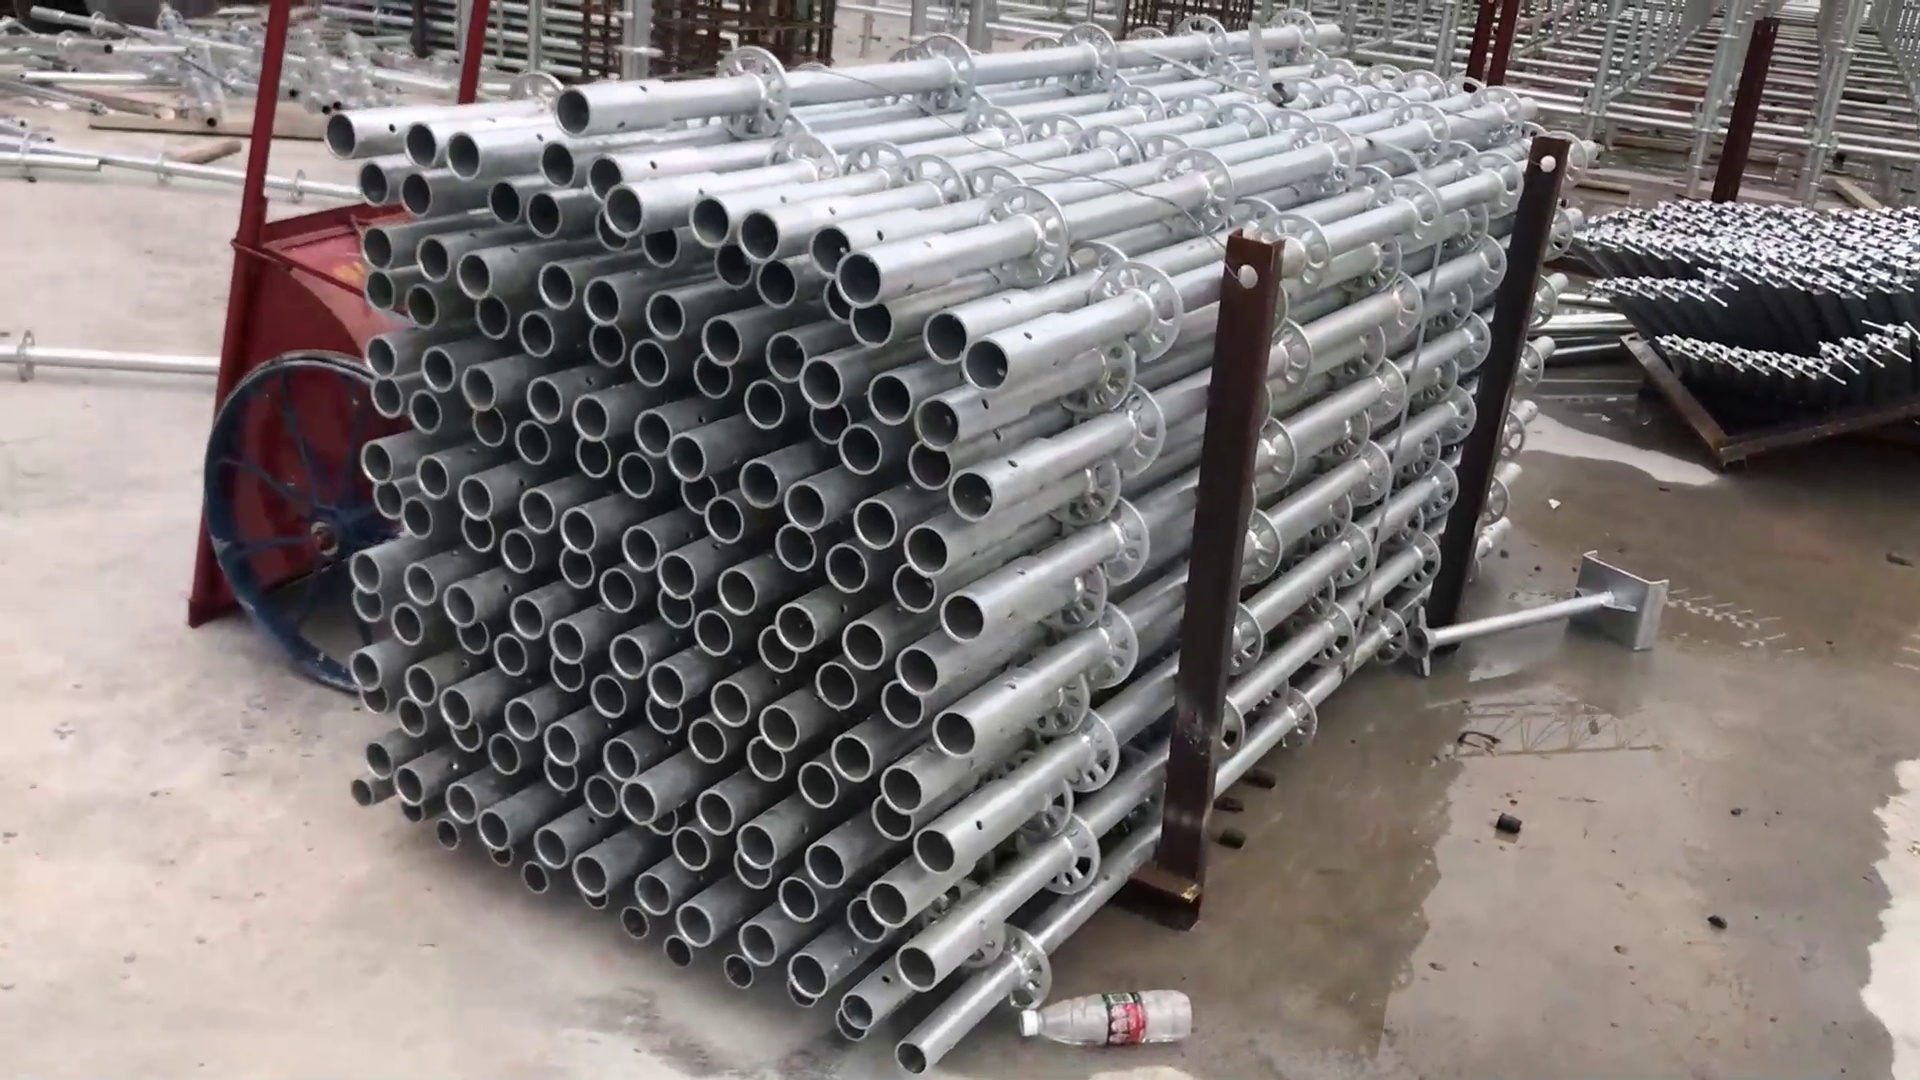handcart: (174, 1, 520, 707)
scaffold: (314, 15, 1581, 1076), (1589, 189, 1920, 401)
